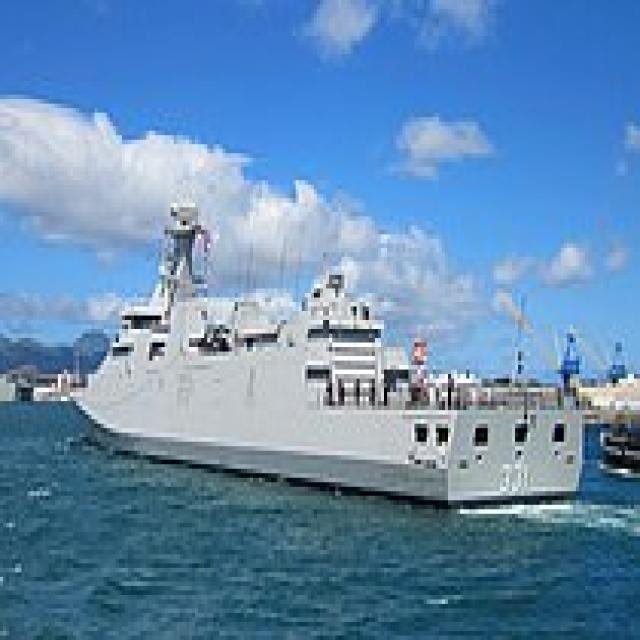Warship: (64, 194, 582, 505)
